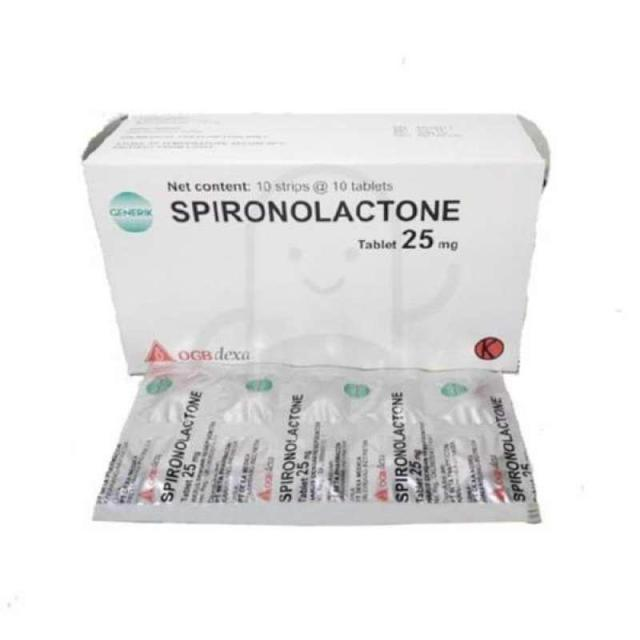drug-name: (164, 195, 466, 229)
